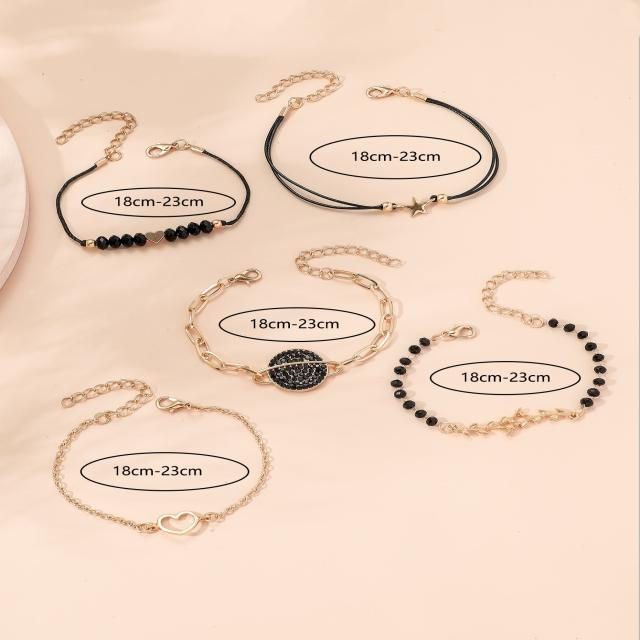bracelet: (377, 246, 640, 469), (32, 346, 288, 554), (182, 233, 423, 422), (37, 72, 269, 268), (239, 67, 512, 228)
